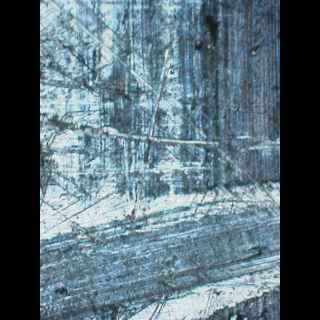d: (40, 3, 214, 319), (40, 175, 278, 320)
